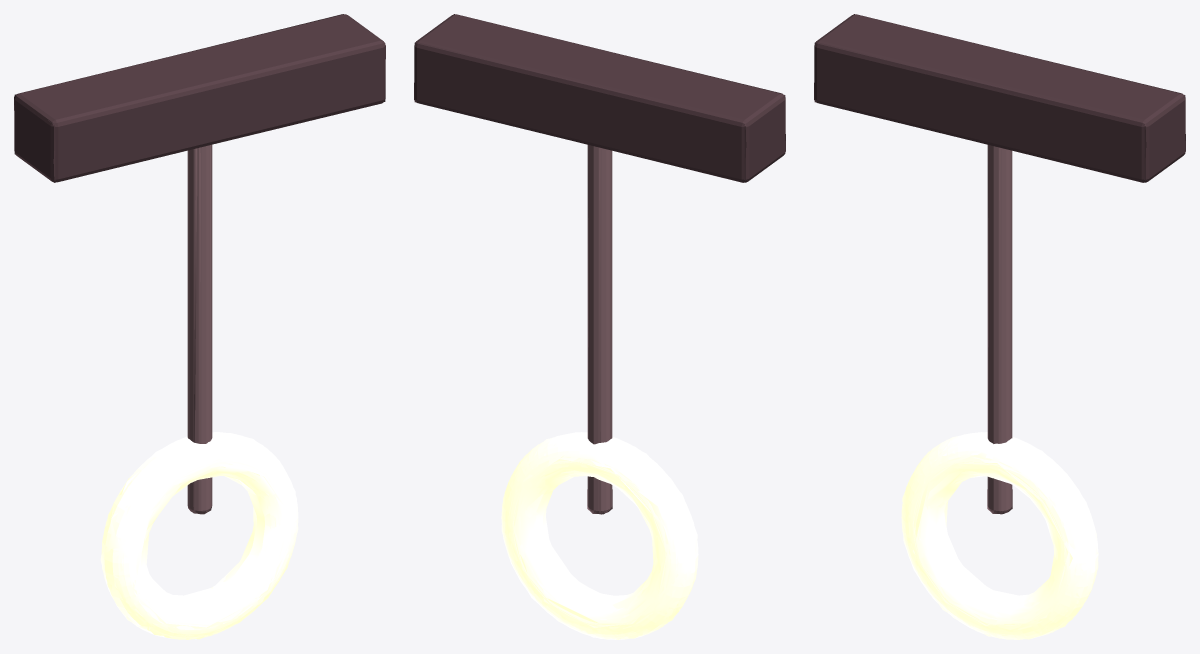
Rendered from SM_Schlachthof_Hook.fbx.
The picture shows the model from 3 angles, left to right: view 1: azimuth 30°, elevation 25°; view 2: azimuth 150°, elevation 25°; view 3: azimuth 330°, elevation 25°; orthographic projection.
Visible parts, largest first — view 1: LOD0_SM_Schlachthof_Hook, LOD1_SM_Schlachthof_Hook, LOD3_SM_Schlachthof_Hook, LOD2_SM_Schlachthof_Hook; view 2: LOD0_SM_Schlachthof_Hook, LOD1_SM_Schlachthof_Hook, LOD3_SM_Schlachthof_Hook, LOD2_SM_Schlachthof_Hook; view 3: LOD0_SM_Schlachthof_Hook, LOD1_SM_Schlachthof_Hook, LOD3_SM_Schlachthof_Hook, LOD2_SM_Schlachthof_Hook.
Part boxes in pixels (bbox=[...]): LOD0_SM_Schlachthof_Hook: bbox=[14, 14, 384, 639]; LOD1_SM_Schlachthof_Hook: bbox=[14, 14, 384, 639]; LOD3_SM_Schlachthof_Hook: bbox=[14, 42, 385, 639]; LOD2_SM_Schlachthof_Hook: bbox=[14, 14, 385, 639]; LOD0_SM_Schlachthof_Hook: bbox=[415, 14, 785, 639]; LOD1_SM_Schlachthof_Hook: bbox=[415, 15, 785, 639]; LOD3_SM_Schlachthof_Hook: bbox=[414, 43, 785, 638]; LOD2_SM_Schlachthof_Hook: bbox=[414, 14, 785, 639]; LOD0_SM_Schlachthof_Hook: bbox=[815, 14, 1185, 639]; LOD1_SM_Schlachthof_Hook: bbox=[815, 14, 1185, 639]; LOD3_SM_Schlachthof_Hook: bbox=[814, 43, 1185, 638]; LOD2_SM_Schlachthof_Hook: bbox=[814, 14, 1185, 639].
Bounding box in the file's own units: 1.4 × 2.28 × 0.3.
